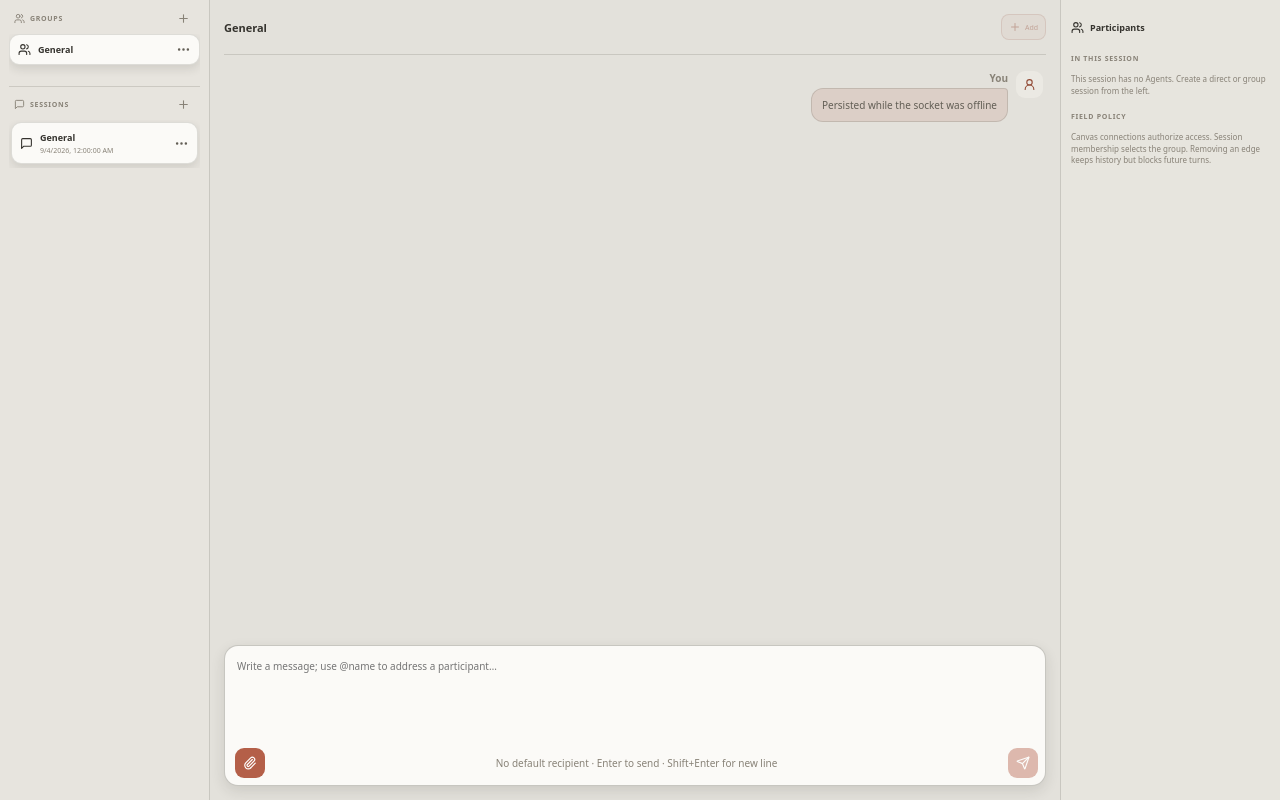
it: ConversationWorkspace snapshots › shows the stop cleanup failure and lets the user send the retained text after recovery
Check: the text "Persisted while the socket was offline" is shown, box [811,88,1008,122]
Type "Continue after Stop" into the text box named "Conversation message" at (635, 694), box [225,646,1045,742]
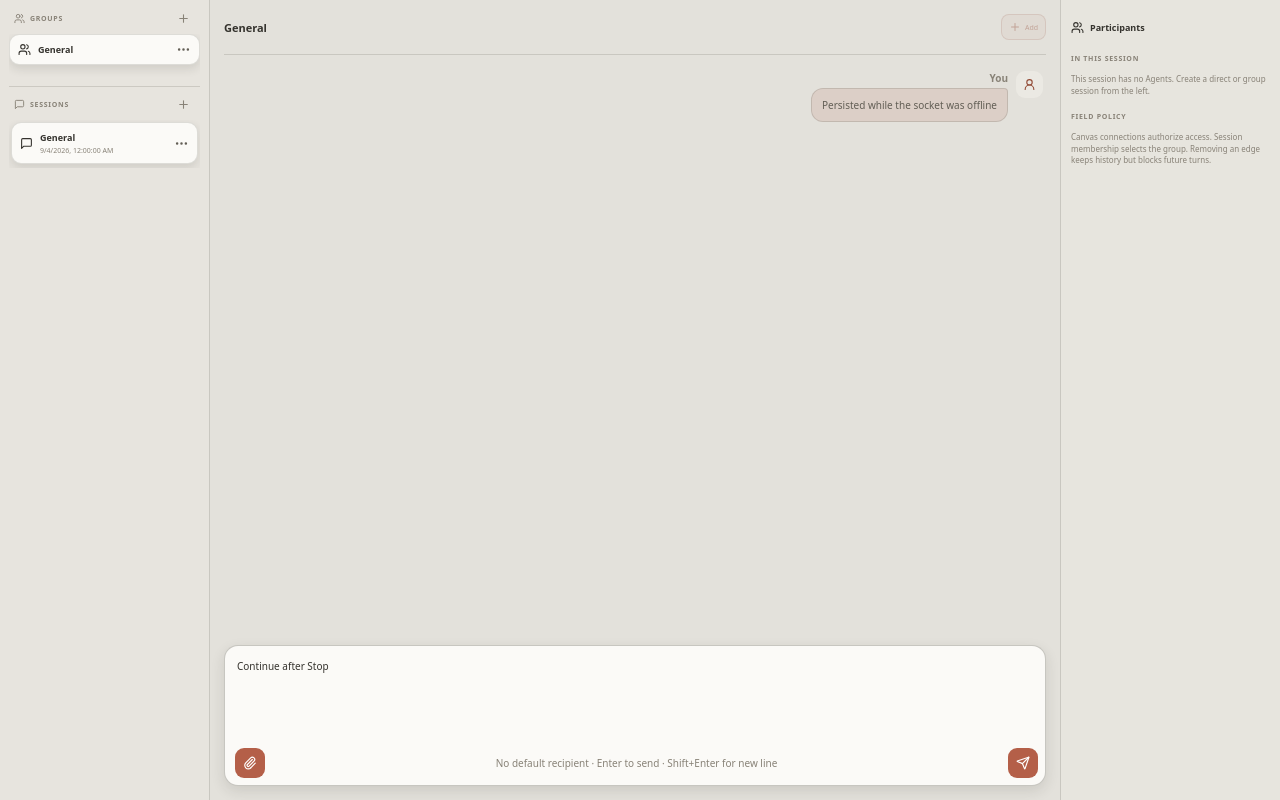
Click the button named "Send message" at (1023, 763), box [1008,748,1038,778]
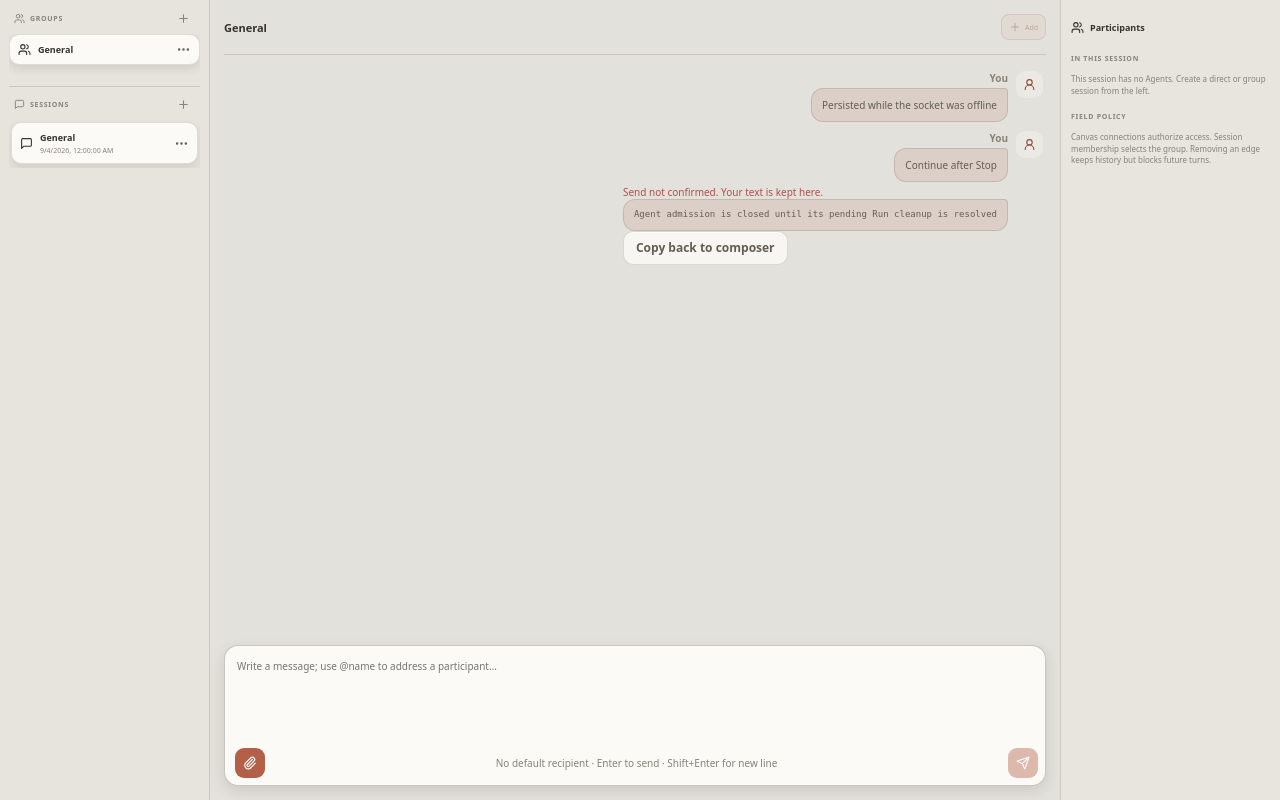
Check: the text "Agent admission is closed until its pending Run cleanup is resolved" is shown, box [623,199,1008,230]
Type "Keep the next draft" into the text box named "Conversation message" at (635, 694), box [225,646,1045,742]
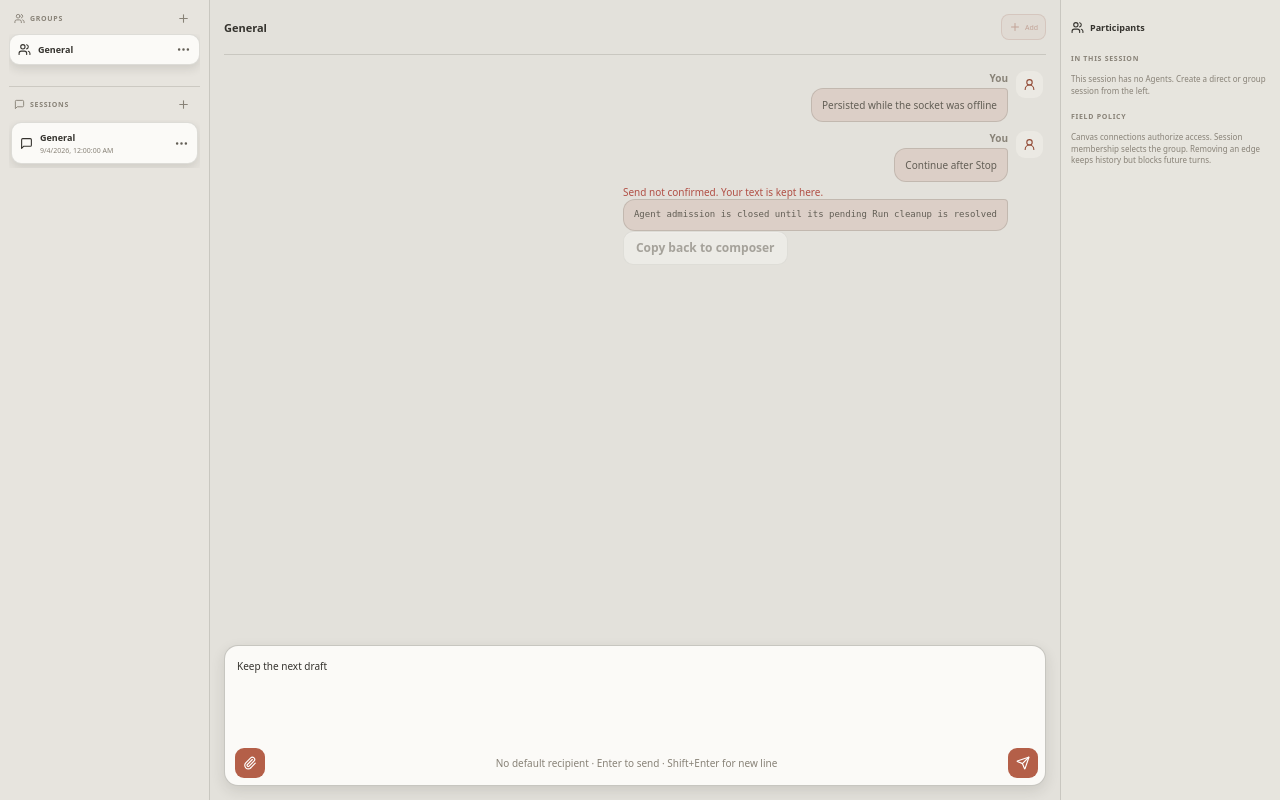
Check: the button "Copy back to composer" is disabled, box [623,230,788,264]
Clear the text box named "Conversation message" at (635, 694), box [225,646,1045,742]
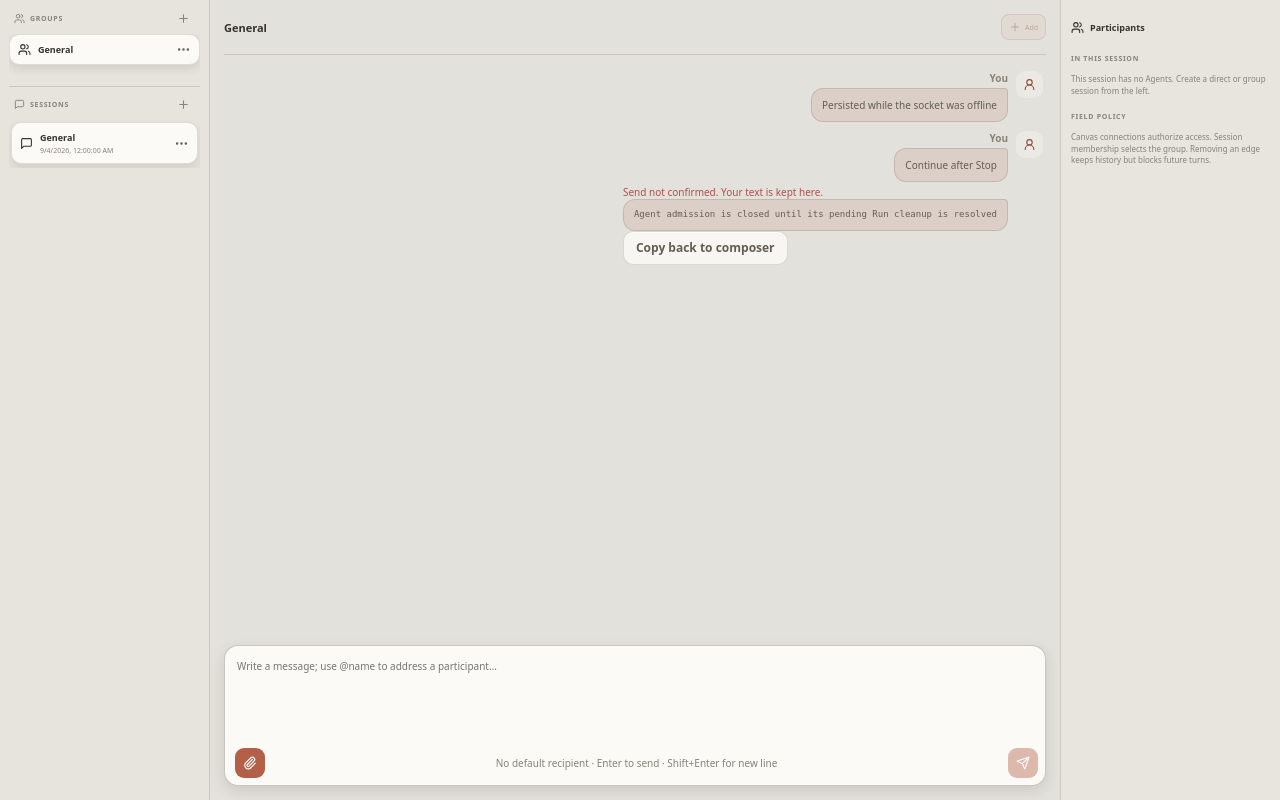
Click the button "Copy back to composer" at (705, 248), box [623,230,788,264]
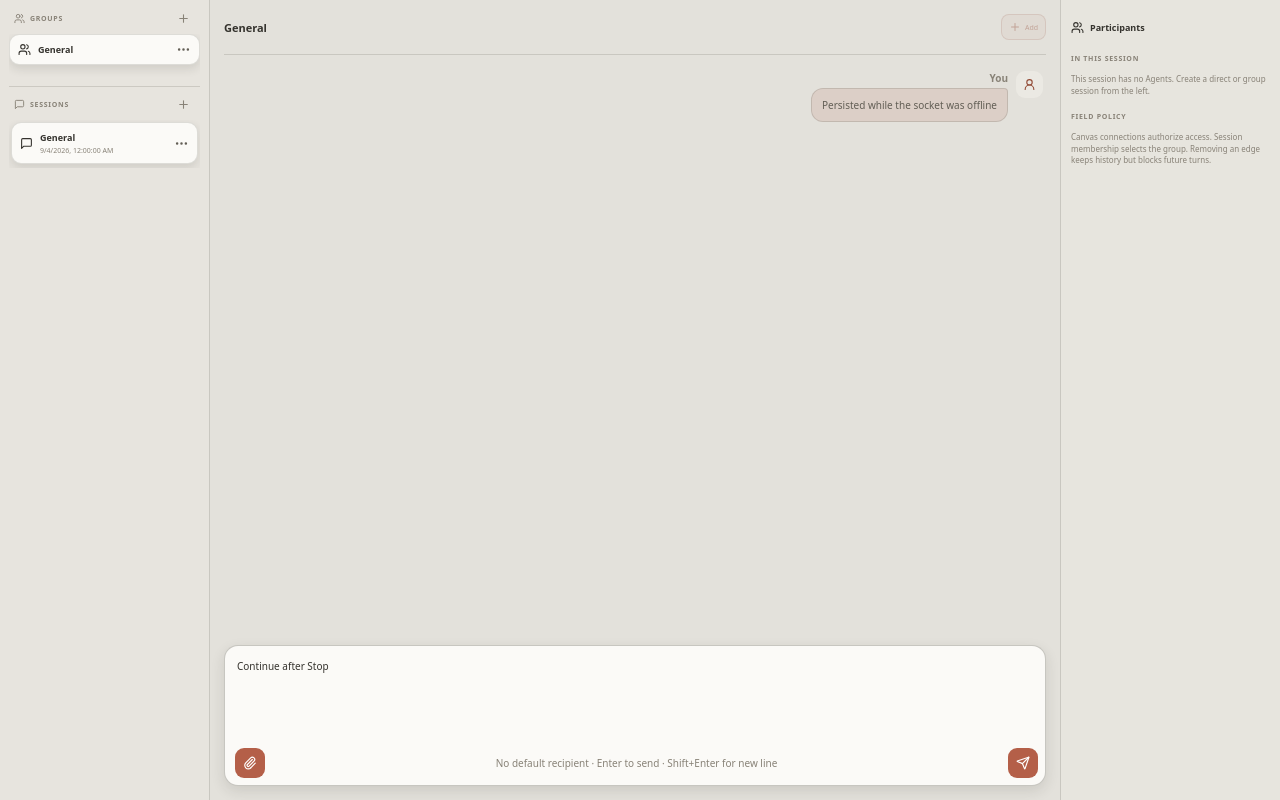
Click the button named "Send message" at (1023, 763), box [1008,748,1038,778]
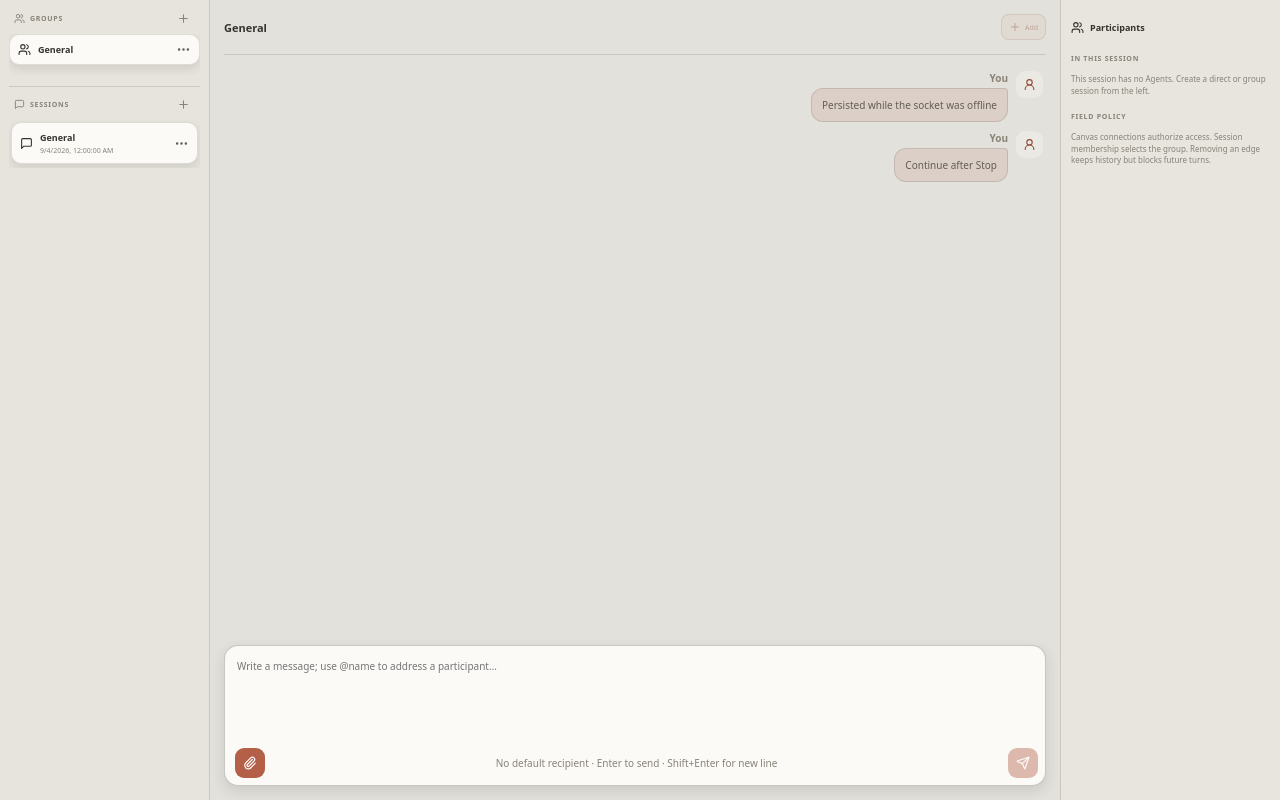
Check: the text "Send not confirmed. Your text is kept here." is not shown
Check: the text "Continue after Stop" is shown once, box [894,148,1008,182]
